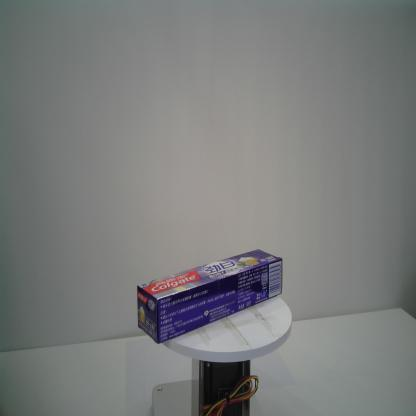Personal Hygiene: (136, 248, 284, 344)
